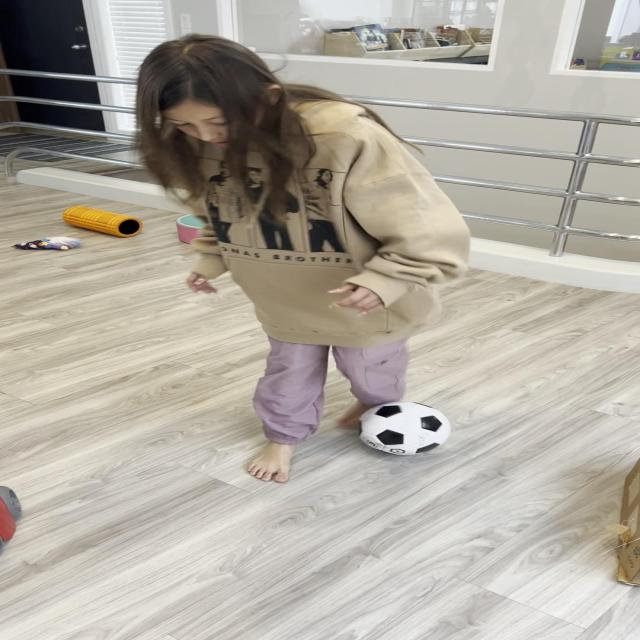Soccer Ball: (357, 403, 452, 455)
